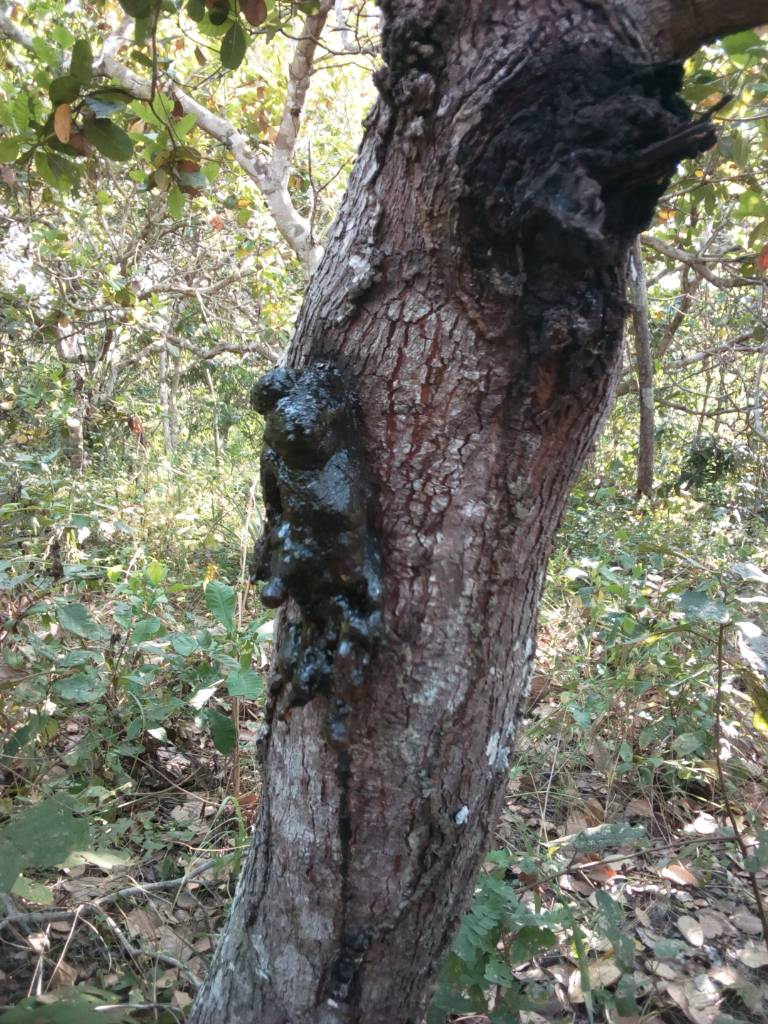Mecocorynus longiceps: (225, 337, 431, 754)
